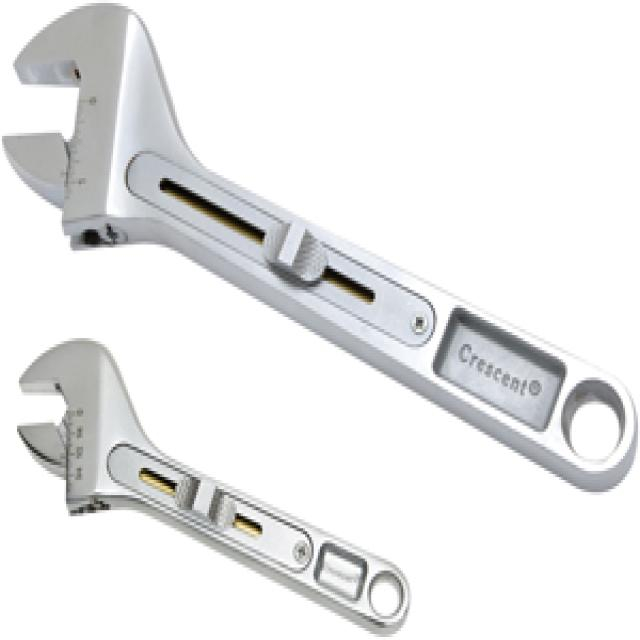wrench: (2, 0, 631, 329), (3, 308, 394, 640)
